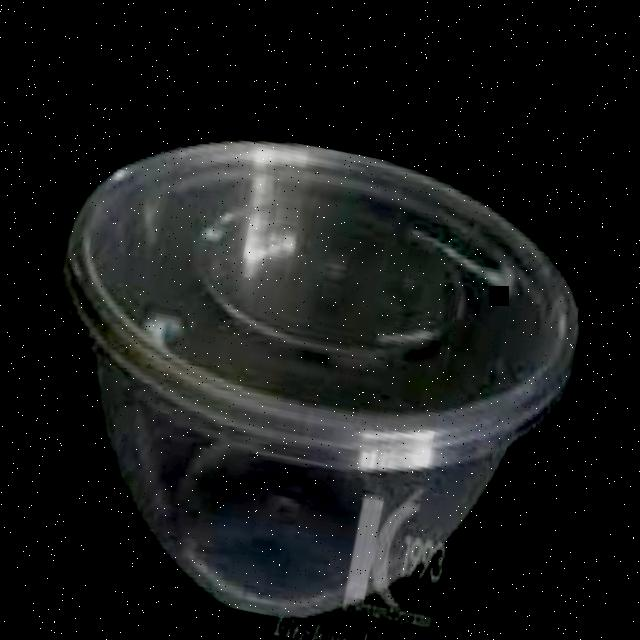plastic_box: (4, 105, 605, 640)
